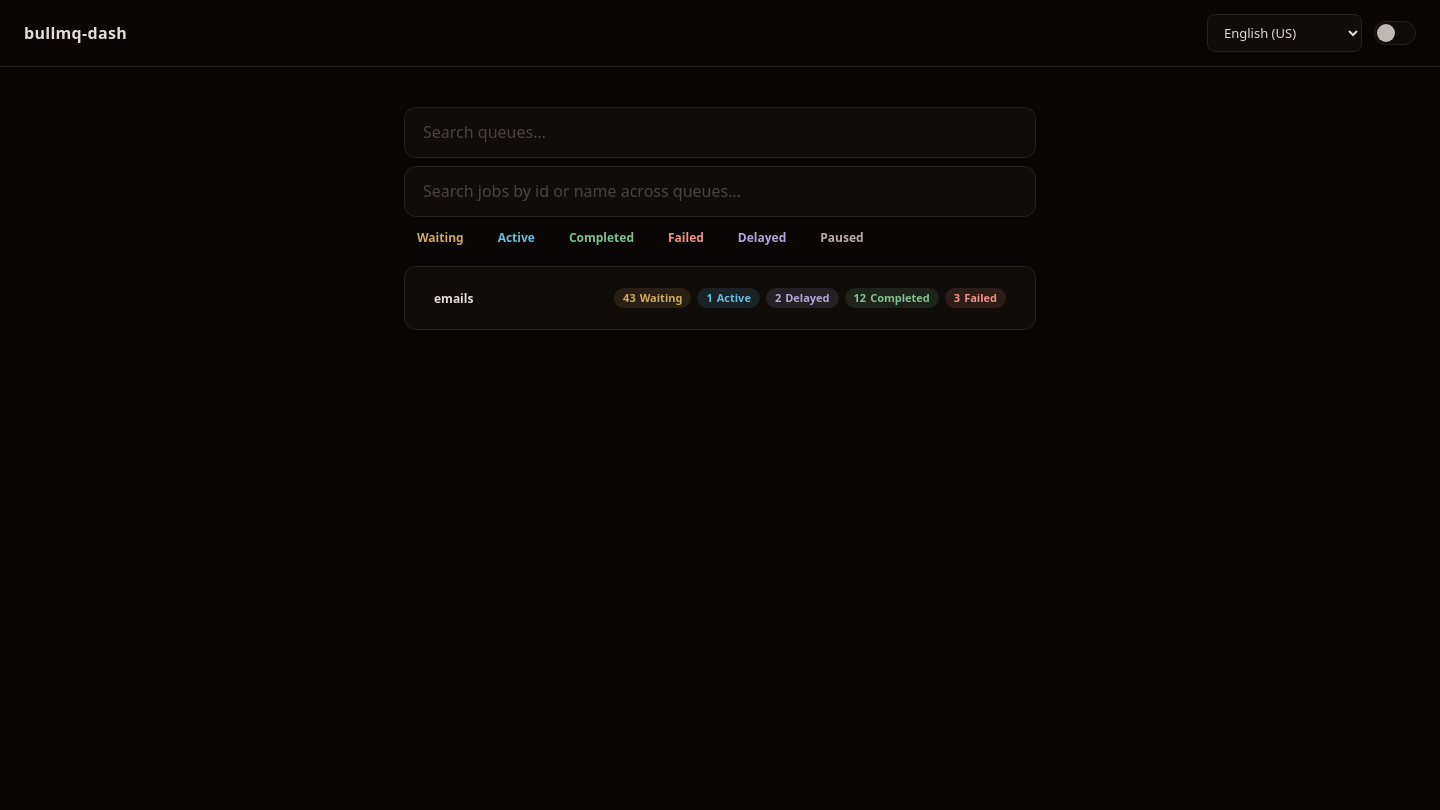
App shell › opens the jobs view of a queue and returns back
The image size is (1440, 810).
Click the button "emails 43 Waiting 1 Active 2 Delayed 12 Completed 3 Failed": (720, 298) [421,279,1019,318]
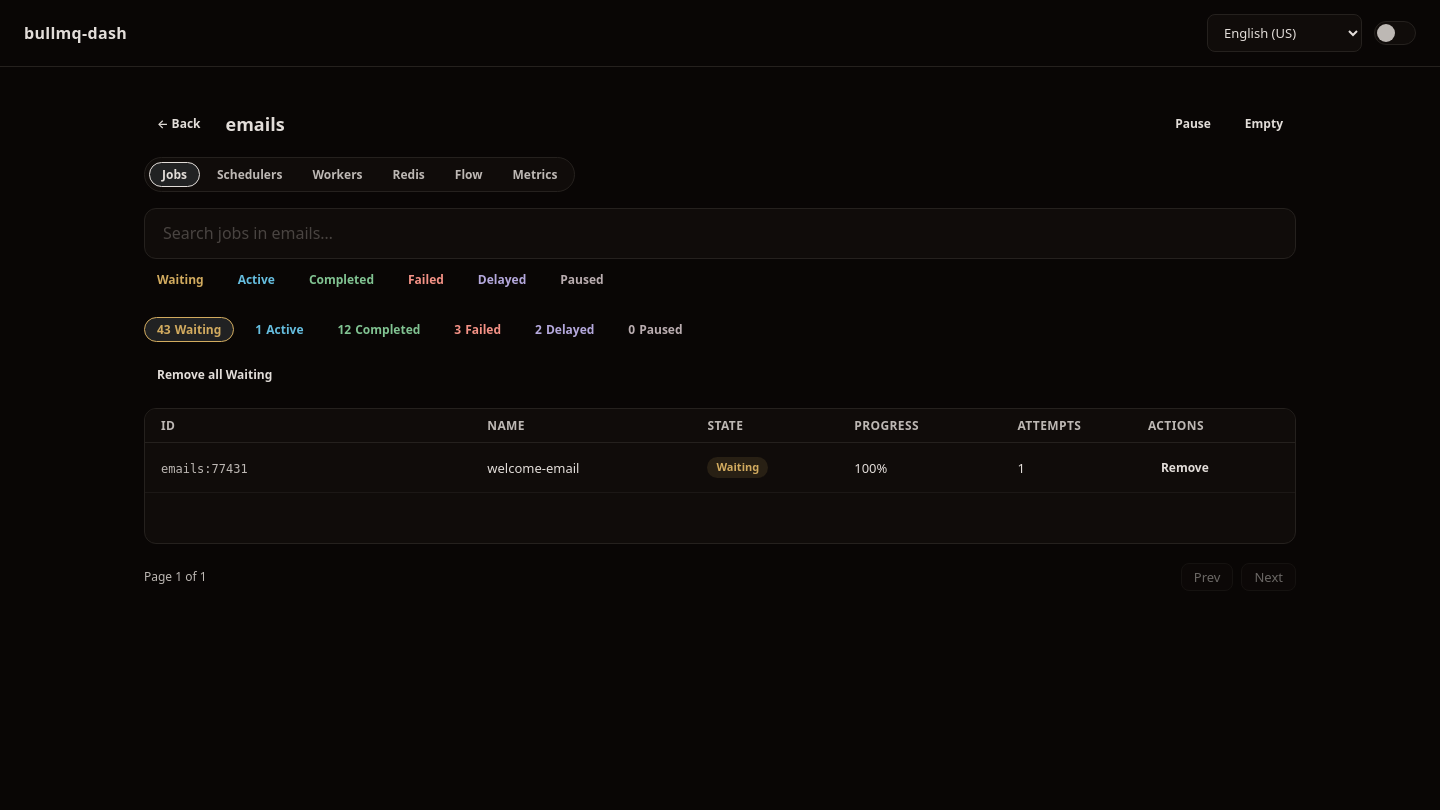
Expected: the search field labelled "Search queues" is not shown
Expected: the text "welcome-email" is shown, [487,459,579,477]
Expected: the element named "Job states" is shown, [144,317,696,342]
Click the button "← Back": (179, 124) [144,107,214,141]
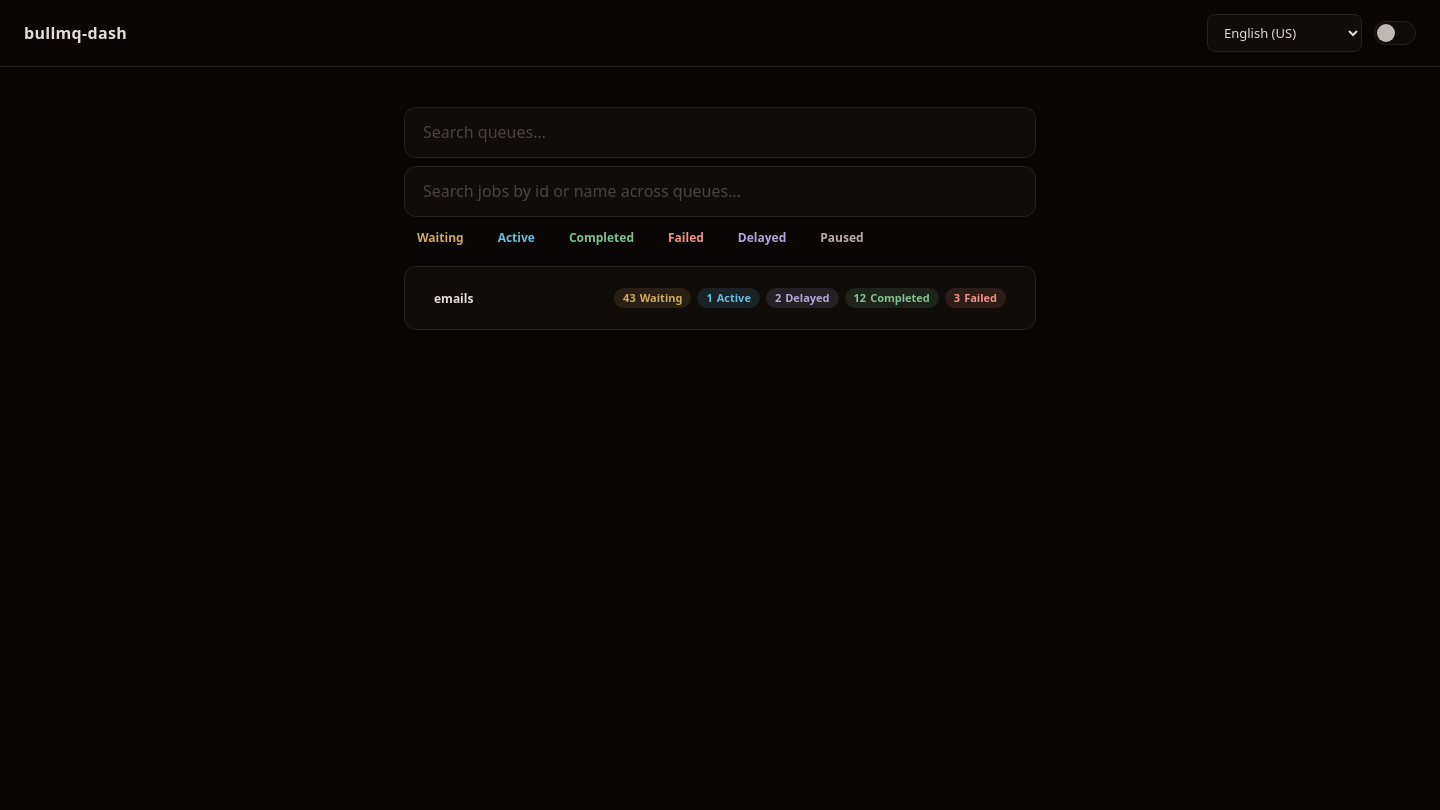
Expected: the search field labelled "Search queues" is shown, [404,107,1036,158]
